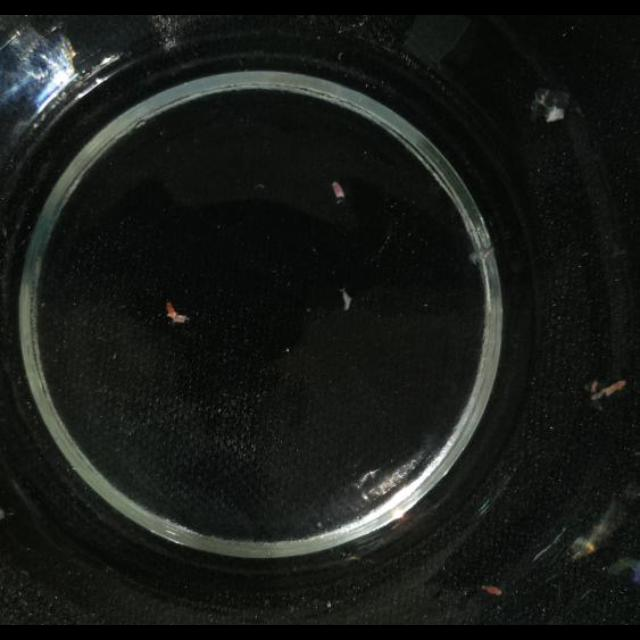Fragment: (589, 380, 627, 402), (164, 299, 188, 325), (332, 181, 346, 201)
microbeads: (482, 586, 502, 596), (253, 183, 264, 191)
